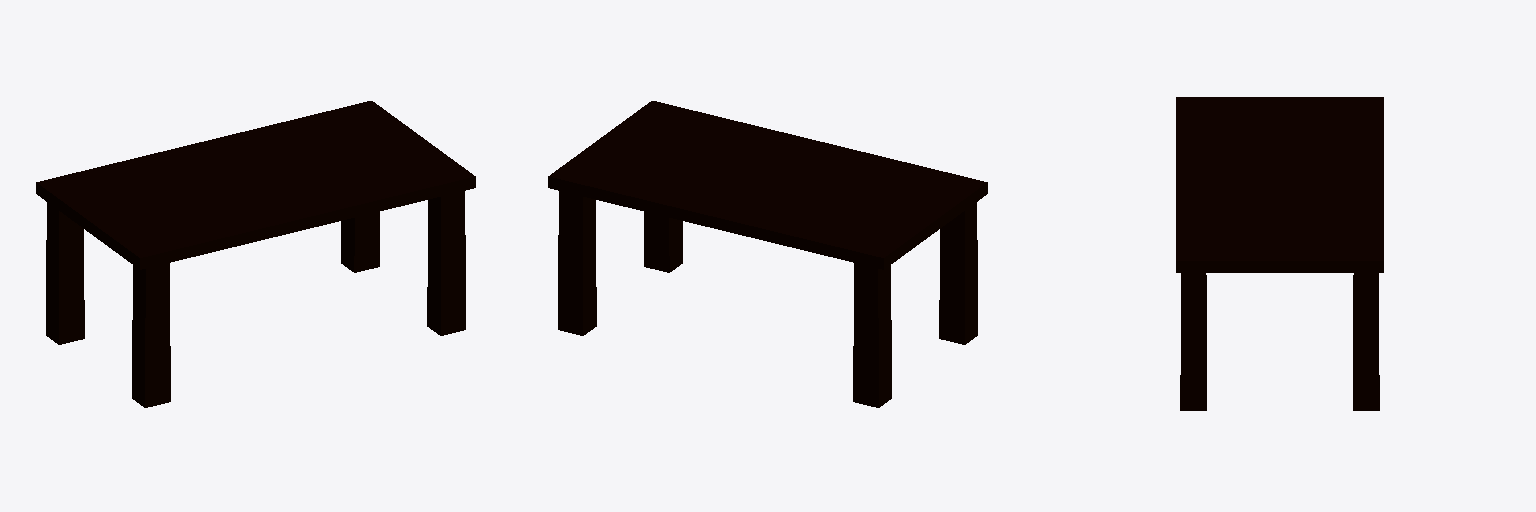
The model's file is Table_02.obj.
The picture shows the model from 3 angles: view 1: azimuth 30°, elevation 25°; view 2: azimuth 150°, elevation 25°; view 3: azimuth 270°, elevation 25°; orthographic projection.
Parts seen in each view (by area): view 1: Table_02_Cube.001; view 2: Table_02_Cube.001; view 3: Table_02_Cube.001.
Boxes of the visible parts, <box> form: Table_02_Cube.001: <box>36,101,475,407</box>; Table_02_Cube.001: <box>548,101,987,407</box>; Table_02_Cube.001: <box>1176,97,1383,410</box>.
Size of the model in its own units: 2.3 by 1 by 1.23.